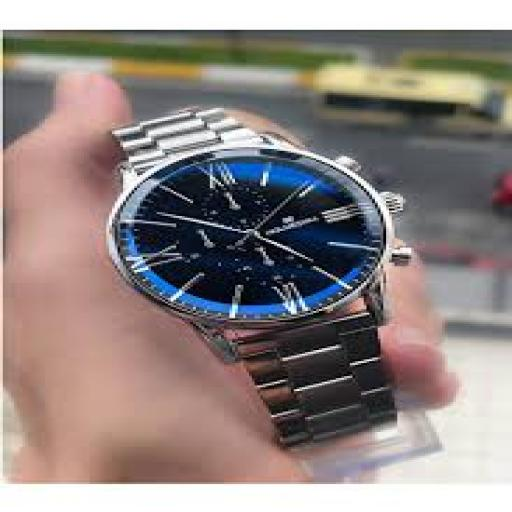KolSaati: (70, 82, 449, 460)
